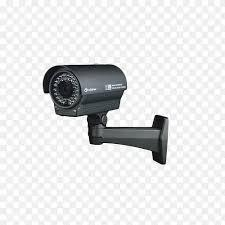tutu: (44, 59, 126, 114)
